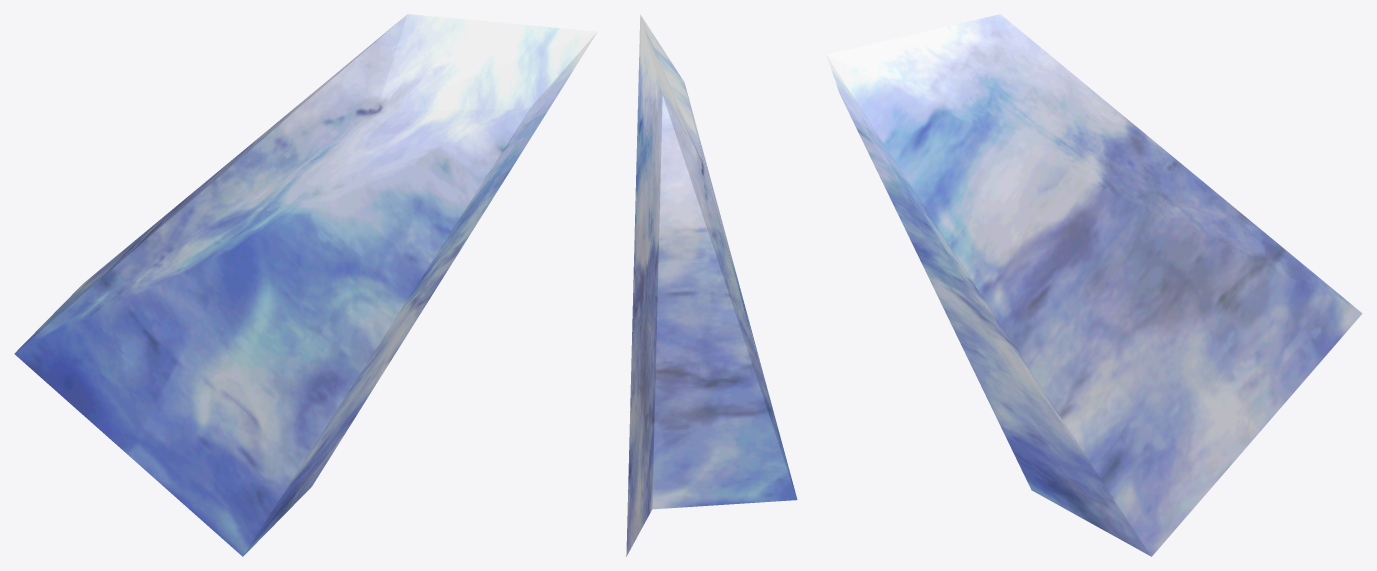
Rendered from icestalagmite02.glb.
3 views of the same model, side by side, from view 1: azimuth 30°, elevation 25°; view 2: azimuth 150°, elevation 25°; view 3: azimuth 270°, elevation 25° (orthographic). The views are drawn at different scales.
Visible parts, largest first — view 1: icestalagmite02; view 2: icestalagmite02; view 3: icestalagmite02.
Boxes of the visible parts, x1,y1,x2,y2 form: icestalagmite02: (14, 14, 597, 556); icestalagmite02: (626, 14, 797, 556); icestalagmite02: (826, 14, 1362, 556).
Bounding box in the file's own units: 1415 × 1850 × 1570.
Materials: 1 (1 with a texture image).
